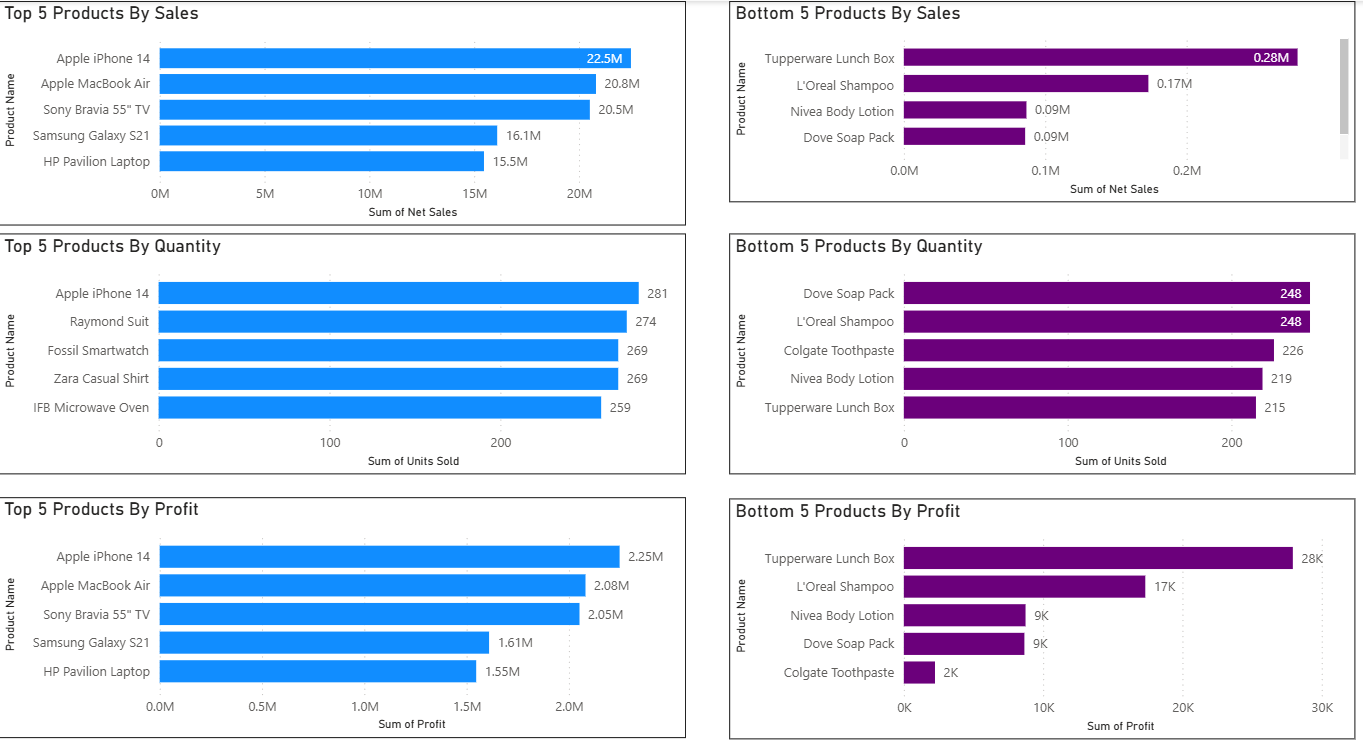

The page's visual inventory and layout, read from the dashboard file:
{"tool":"powerbi","page":{"name":"Top/Bottom 5 requirment","canvas":[1280,720],"ordinal":0},"visuals":[{"type":"barChart","title":"Top 5 Products By Sales","fields":{"Category":["Dim Product.Product Name"],"Y":["Sum(Fact Table.Net Sales)"]},"box":[0,0,640,208.8],"z":0},{"type":"barChart","title":"Bottom 5 Products By Sales","fields":{"Category":["Dim Product.Product Name"],"Y":["Sum(Fact Table.Net Sales)"]},"box":[680,0,582.5,187.5],"z":1000},{"type":"barChart","title":"Top 5 Products  By Quantity","fields":{"Category":["Dim Product.Product Name"],"Y":["Sum(Fact Table.Units Sold)"]},"box":[0,216.2,640,223.8],"z":2000},{"type":"barChart","title":"Bottom 5 Products By Quantity","fields":{"Category":["Dim Product.Product Name"],"Y":["Sum(Fact Table.Units Sold)"]},"box":[680,216.2,582.5,223.8],"z":3000},{"type":"barChart","title":"Top 5 Products  By Profit","fields":{"Category":["Dim Product.Product Name"],"Y":["Sum(Fact Table.Profit)"]},"box":[0,461.2,640,223.8],"z":4000},{"type":"barChart","title":"Bottom 5 Products By Profit","fields":{"Category":["Dim Product.Product Name"],"Y":["Sum(Fact Table.Profit)"]},"box":[680,462.5,582.5,223.8],"z":5000}]}

Visuals, with their boxes in screenshot pixels (x1, y1, x2, y2), scaled from the page's 1280x720 canvas onto the 1363x752 screenshot:
"Top 5 Products By Sales" barChart: region(0, 0, 682, 218)
"Bottom 5 Products By Sales" barChart: region(724, 0, 1344, 196)
"Top 5 Products  By Quantity" barChart: region(0, 226, 682, 460)
"Bottom 5 Products By Quantity" barChart: region(724, 226, 1344, 460)
"Top 5 Products  By Profit" barChart: region(0, 482, 682, 715)
"Bottom 5 Products By Profit" barChart: region(724, 483, 1344, 717)
